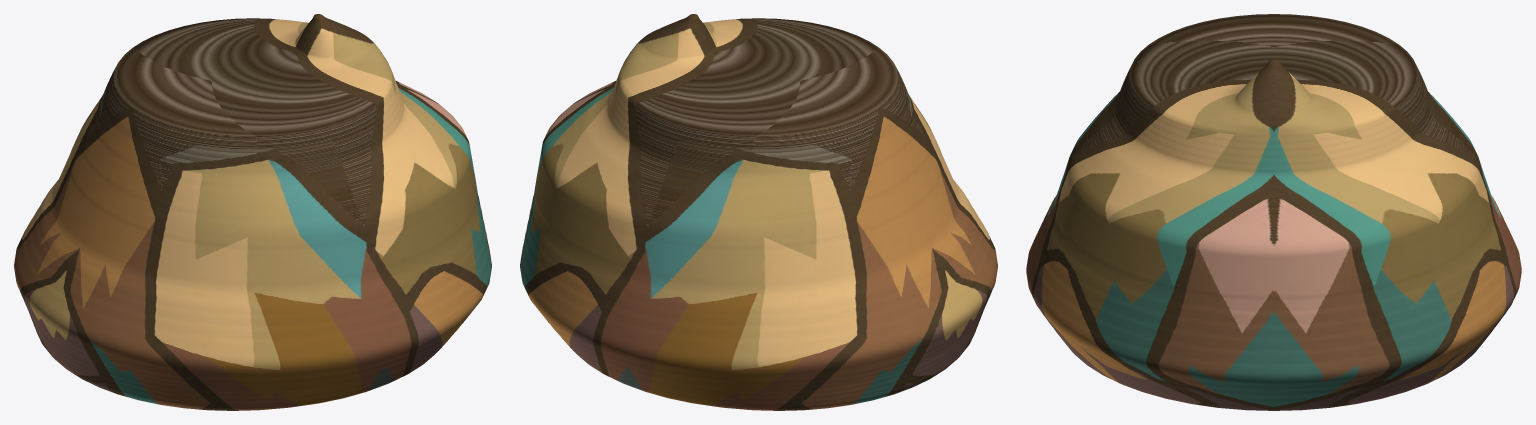
The model's file is ochre_rock_cluster.glb.
3 views of the same model, side by side, from view 1: azimuth 30°, elevation 25°; view 2: azimuth 150°, elevation 25°; view 3: azimuth 270°, elevation 25° (orthographic). The views are drawn at different scales.
Parts seen in each view (by area): view 1: ochre_rock_cluster; view 2: ochre_rock_cluster; view 3: ochre_rock_cluster.
Part boxes in pixels (left/top/right/bottom): ochre_rock_cluster: left=14, top=14, right=491, bottom=410; ochre_rock_cluster: left=520, top=14, right=997, bottom=410; ochre_rock_cluster: left=1026, top=14, right=1521, bottom=410.
Bounding box in the file's own units: 0.9961 × 0.7704 × 0.9961.
Materials: 1 (1 with a texture image).
